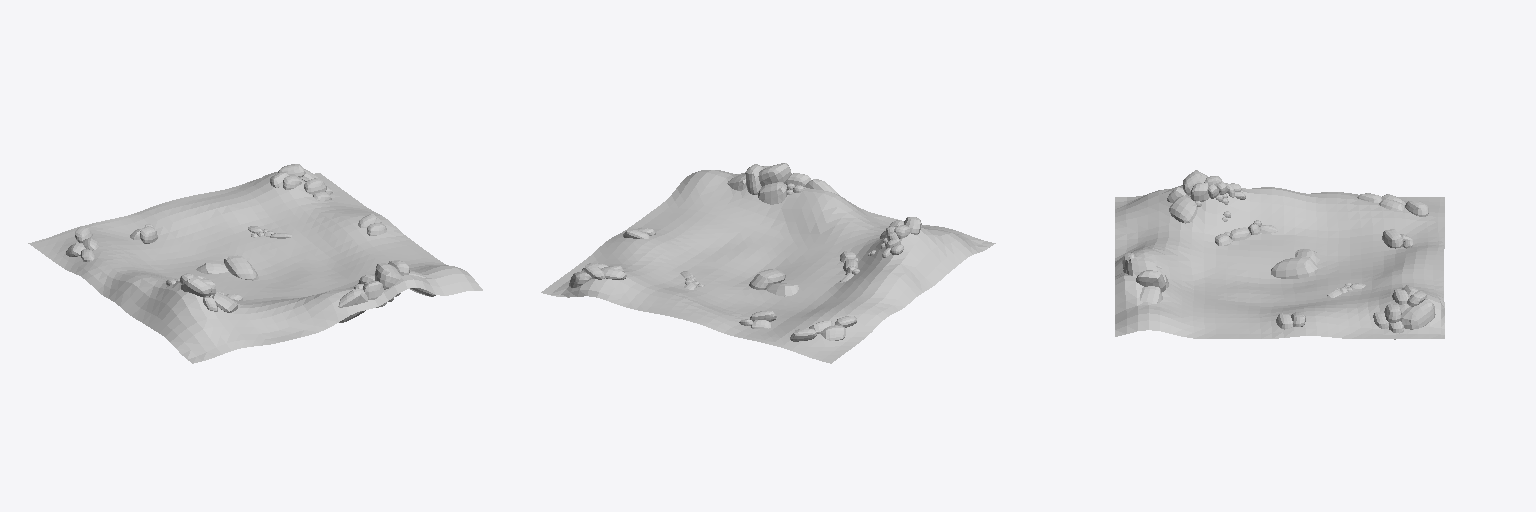
Rendered from testC.obj.
The picture shows the model from 3 angles: view 1: azimuth 30°, elevation 25°; view 2: azimuth 150°, elevation 25°; view 3: azimuth 270°, elevation 25°; orthographic projection.
Parts seen in each view (by area): view 1: pPlane1, group1 pCube55; view 2: pPlane1, group1 pCube43; view 3: pPlane1, group1 pCube55, group1 pCube36, group1 pCube11.
Part boxes in pixels (x1,y1,x2,y2): pPlane1: (28,172,482,363); group1 pCube55: (224,255,258,280); pPlane1: (541,166,995,363); group1 pCube43: (758,163,791,186); pPlane1: (1115,185,1444,338); group1 pCube55: (1271,257,1317,278); group1 pCube36: (1400,299,1435,329); group1 pCube11: (1169,196,1197,223).
Size of the model in its own units: 23.92 by 5.18 by 23.45.